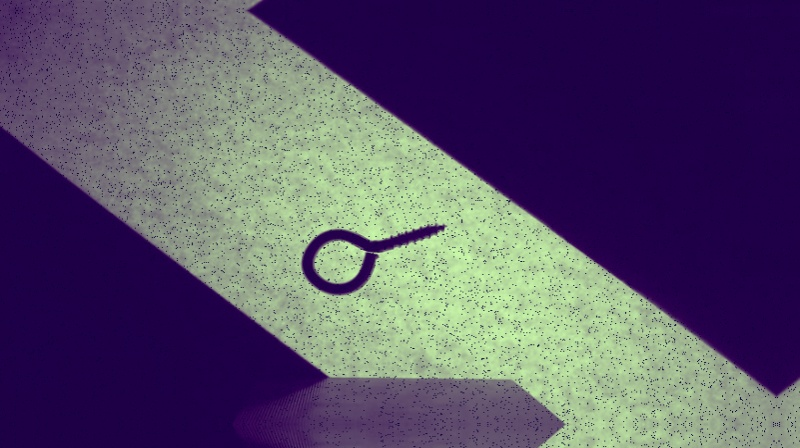O001: (297, 220, 448, 296)
